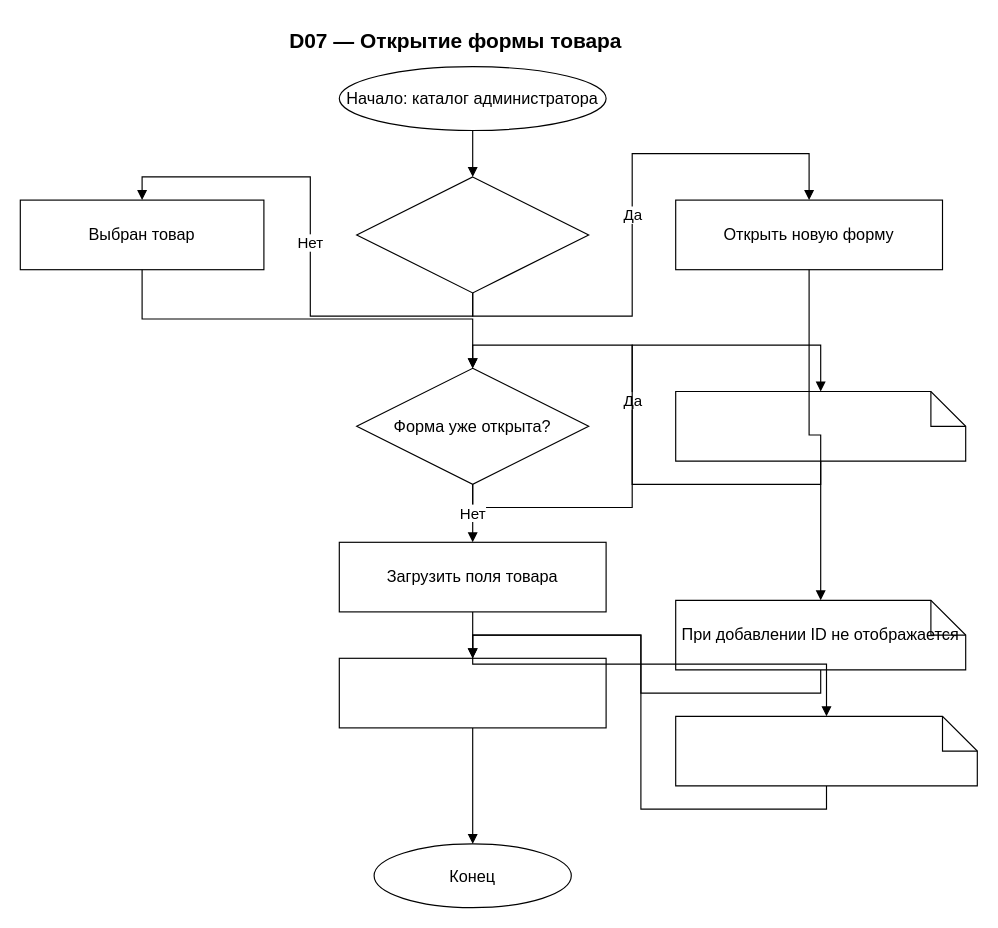
Some shapes in this 998 by 928 pixel diagram are drawn without their labels. The box of each missing label's shape, as (x1, y1, x2, y2) in pixels:
«Добавить товар»?: (356, 176, 589, 293)
Открыть форму: (338, 657, 606, 728)
При редактировании ID только для чтения: (675, 715, 977, 786)
Сообщение: форма уже открыта: (675, 390, 966, 461)
